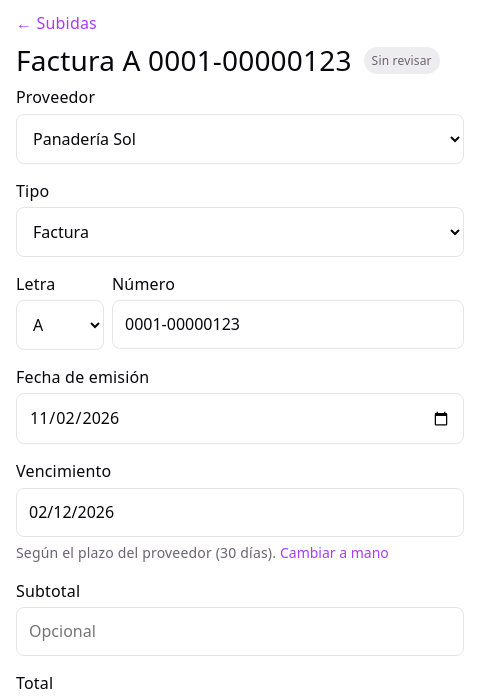
Test: Documento › asks for a due date after switching to a supplier with no payment term
The width and height of the screenshot is (481, 700).
Expected: the field labelled "Vencimiento" holds "02/12/2026", [16, 488, 464, 537]
Select "Distribuidora Norte" in the dropdown labelled "Proveedor". click: (240, 139)
box: [16, 114, 464, 164]
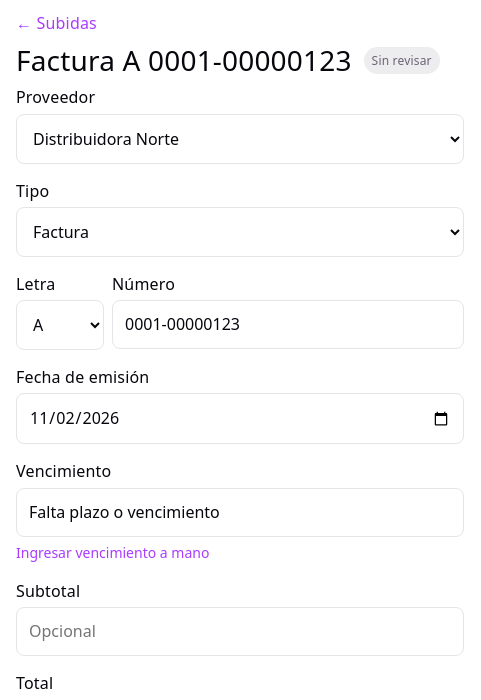
Now the field labelled "Vencimiento" holds "Falta plazo o vencimiento", box [16, 488, 464, 537]
Now the button "Ingresar vencimiento a mano" is shown, box [16, 541, 209, 564]
